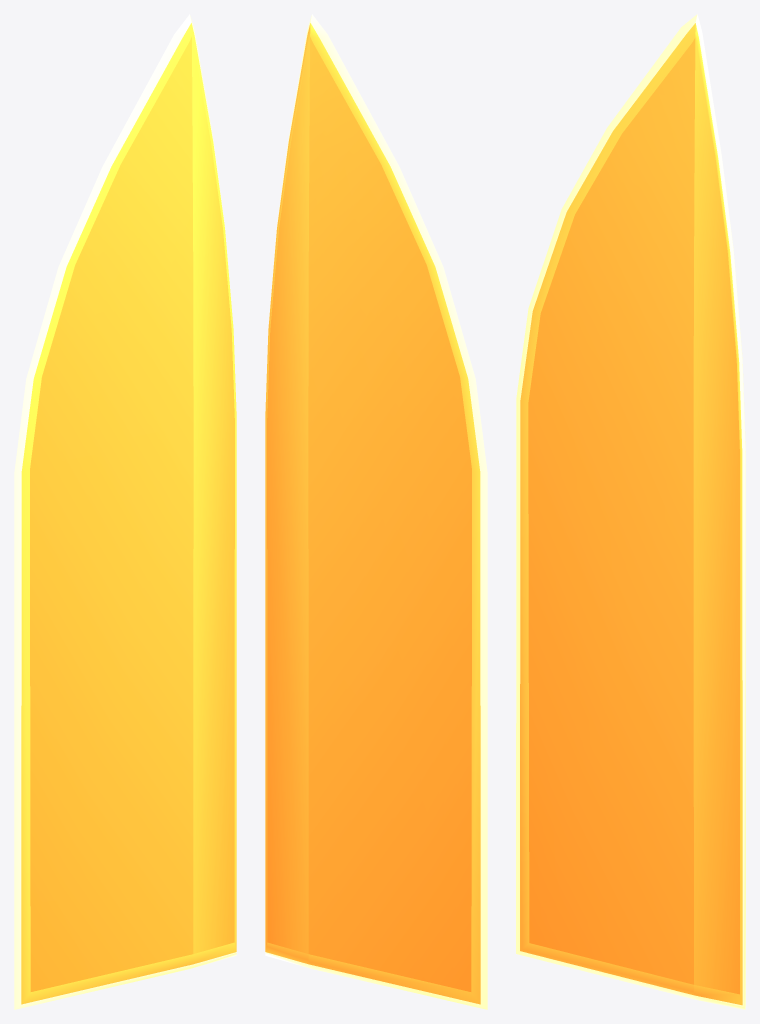
File: gold_blade (15).glb
3 views of the same model, side by side, from view 1: azimuth 30°, elevation 25°; view 2: azimuth 150°, elevation 25°; view 3: azimuth 330°, elevation 25° (orthographic). The views are drawn at different scales.
Parts seen in each view (by area): view 1: gold_blade_steel.036; view 2: gold_blade_steel.036; view 3: gold_blade_steel.036.
Part boxes in pixels (<box>): gold_blade_steel.036: <box>14,14,236,1009</box>; gold_blade_steel.036: <box>265,14,487,1009</box>; gold_blade_steel.036: <box>516,14,745,1009</box>.
Bounding box in the file's own units: 2.79 × 11.43 × 0.1594.
1 material, 1 textured.
